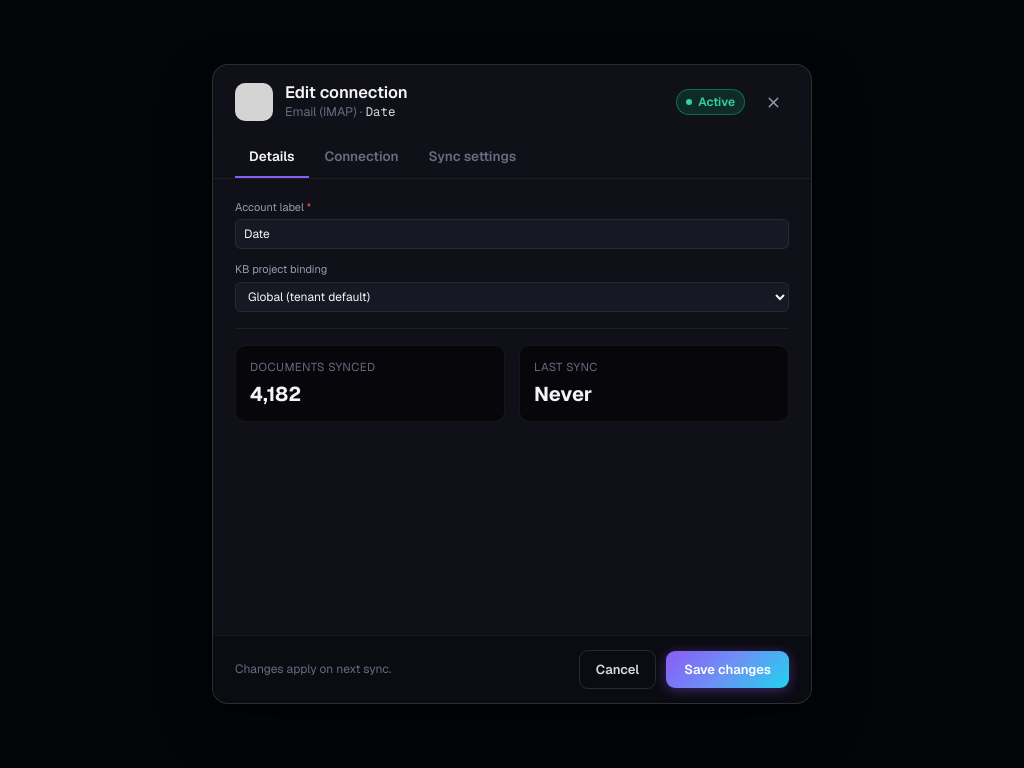
it: AccountEditModal › shows a loading state while the connection prefill is in flight
The width and height of the screenshot is (1024, 768).
Click the tab with test id "connector-account-7-edit-tab-connection". click: (362, 158)
box: [311,138,413,178]
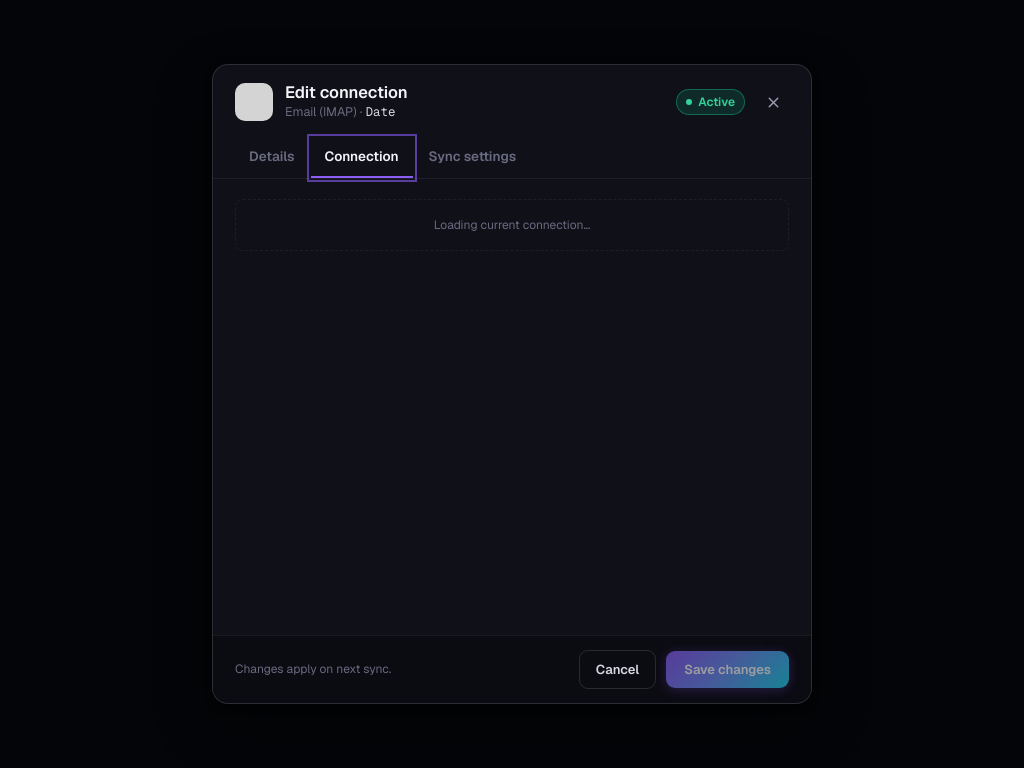
Result: the message "Loading current connection…" is shown at [235,199,789,251]
